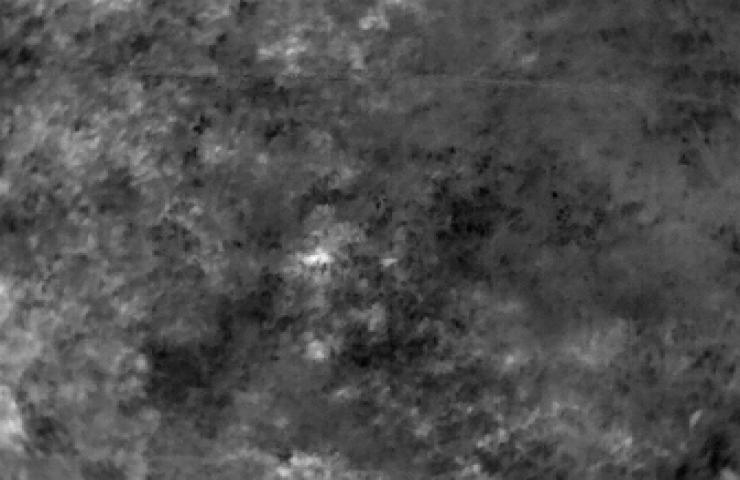landmines: (299, 244, 342, 286)
